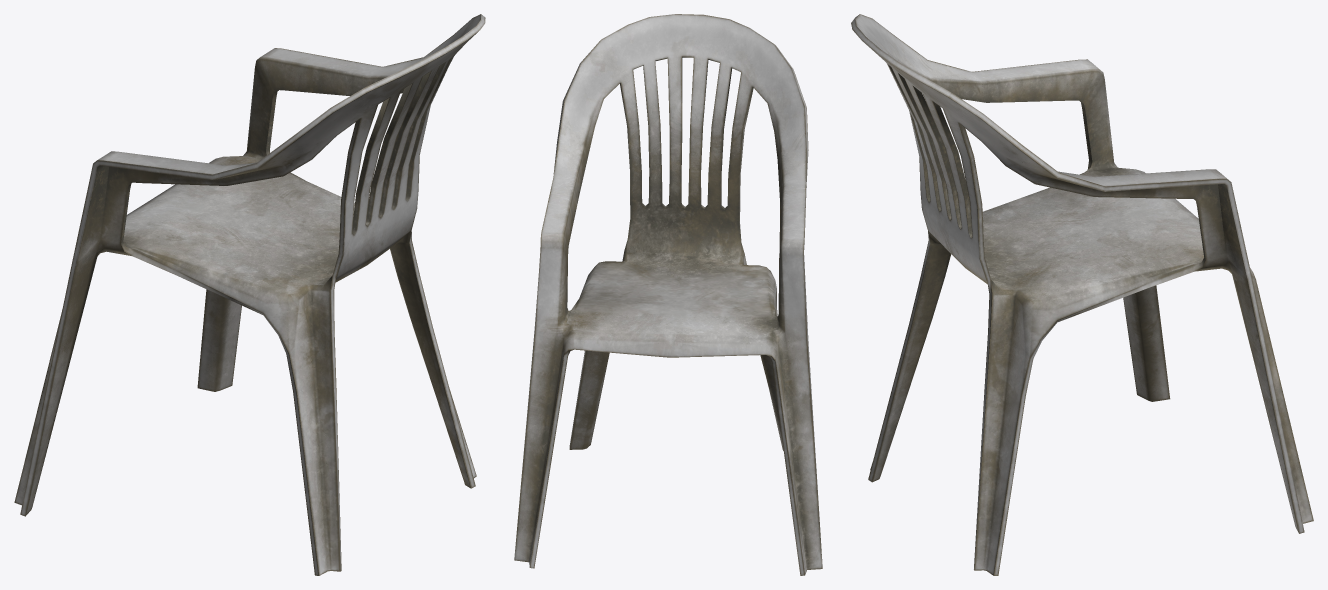
Rendered from Kursi.fbx.
3 views of the same model, side by side, from view 1: azimuth 30°, elevation 25°; view 2: azimuth 150°, elevation 25°; view 3: azimuth 270°, elevation 25° (orthographic). The views are drawn at different scales.
Visible parts, largest first — view 1: Sketchfab Model.007; view 2: Sketchfab Model.007; view 3: Sketchfab Model.007.
Part boxes in pixels (<box>): Sketchfab Model.007: <box>14,14,485,575</box>; Sketchfab Model.007: <box>514,14,822,575</box>; Sketchfab Model.007: <box>851,14,1313,575</box>.
Bounding box in the file's own units: 1.02 × 1.28 × 1.09.
Materials: 1 (1 with a texture image).
